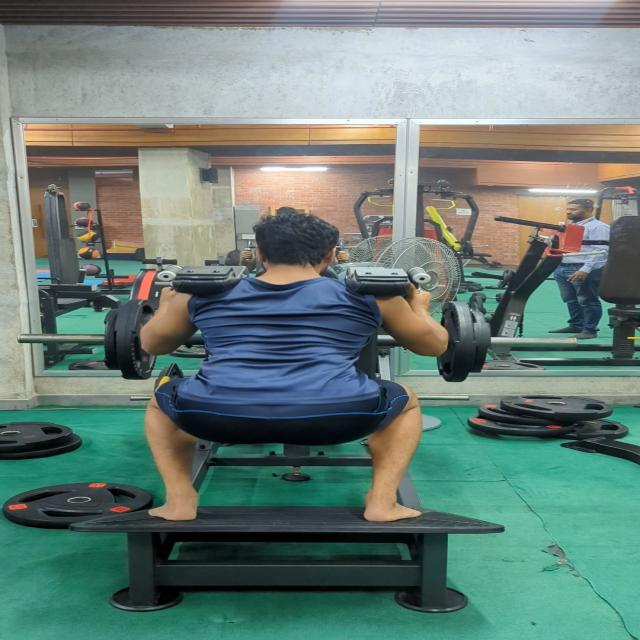Normal_SquatsWithBarbell: (125, 201, 462, 531)
